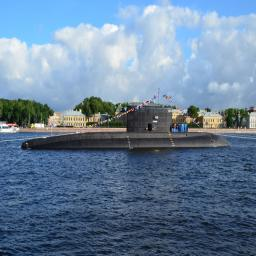submarine: (21, 104, 232, 152)
